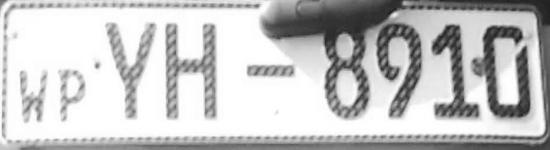-: (242, 60, 299, 90)
0: (480, 19, 532, 128)
1: (429, 16, 480, 124)
8: (318, 13, 374, 122)
9: (375, 18, 427, 126)
H: (162, 19, 221, 135)
P: (55, 62, 90, 129)
W: (15, 61, 52, 128)
Y: (102, 11, 160, 126)
